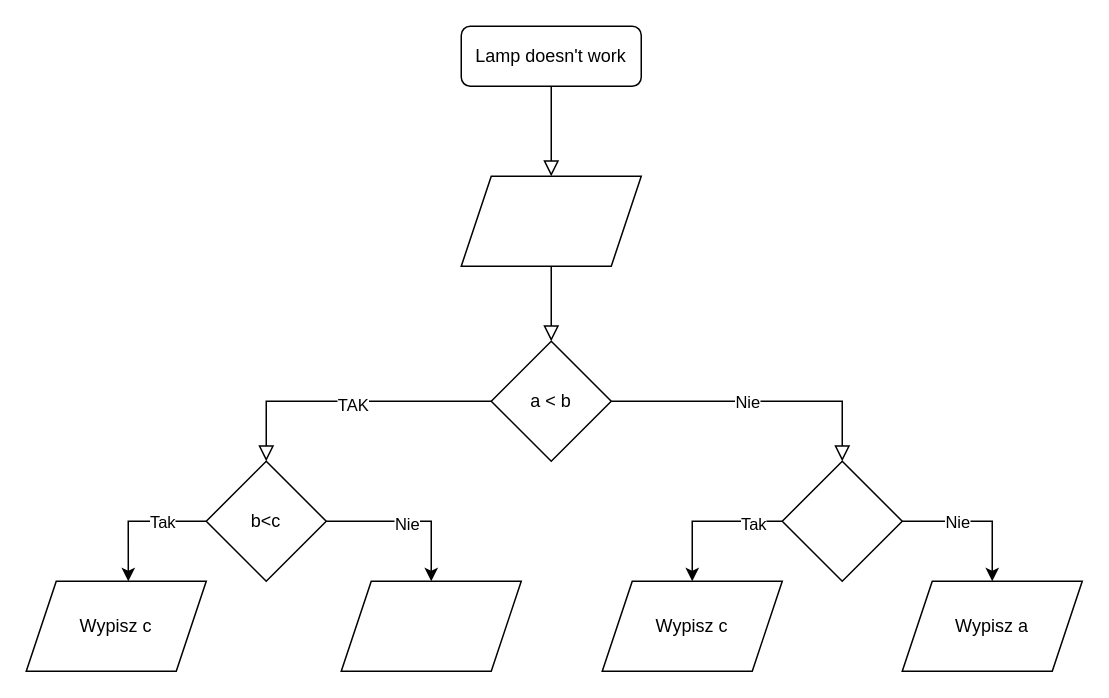
Some shapes in this 1109 by 698 pixel diagram are drawn without their labels. Each missing label, with the centre of its shape:
"a<c" goes at (x=841, y=520).
"Podaj a, b, c" goes at (x=550, y=220).
"Wypisz b" goes at (x=430, y=625).
